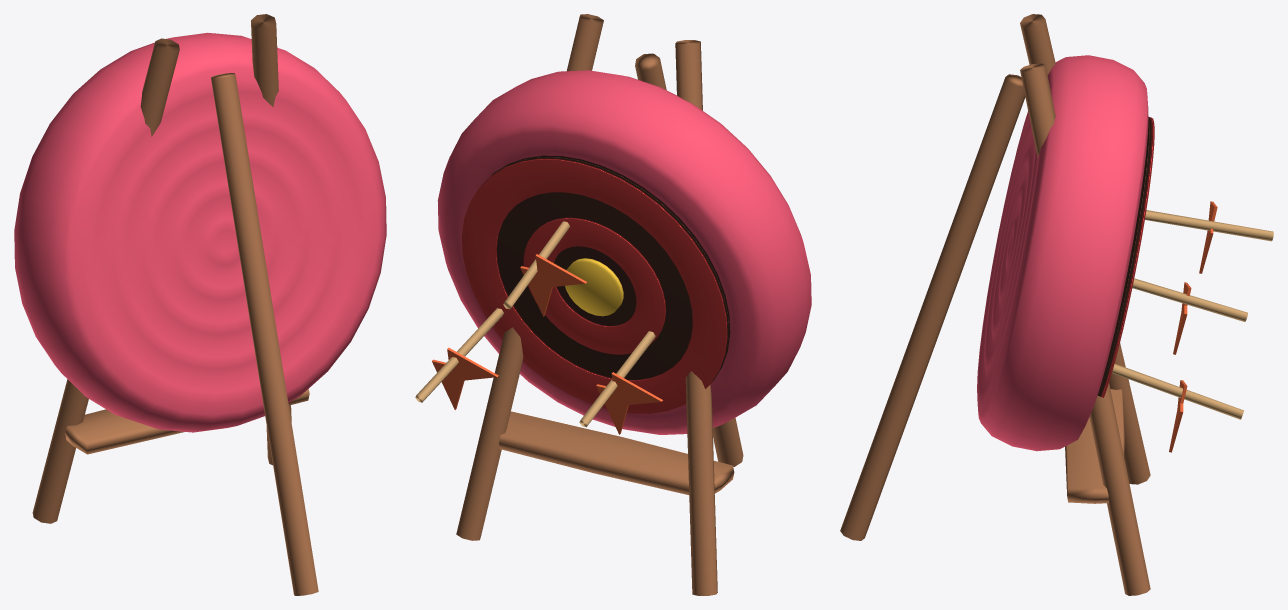
File: ArrowAmbushHayTarget.obj
3 renders of one model, left to right at view 1: azimuth 30°, elevation 25°; view 2: azimuth 150°, elevation 25°; view 3: azimuth 270°, elevation 25°, orthographic.
Visible parts, largest first — view 1: Straw, Wood; view 2: Straw, Rings, Wood, Face, Fletching, Shafts, Bull; view 3: Straw, Wood, Shafts, Face, Fletching, Rings.
Part boxes in pixels (<box>): Straw: <box>14,32,386,432</box>; Wood: <box>32,14,318,595</box>; Straw: <box>437,70,811,434</box>; Rings: <box>462,158,727,413</box>; Wood: <box>456,14,743,595</box>; Face: <box>481,155,730,381</box>; Fletching: <box>432,254,662,434</box>; Shafts: <box>415,221,655,427</box>; Bull: <box>565,258,623,316</box>; Straw: <box>977,55,1148,451</box>; Wood: <box>840,14,1150,595</box>; Shafts: <box>1112,210,1273,419</box>; Face: <box>1097,117,1151,396</box>; Fletching: <box>1169,201,1217,452</box>; Rings: <box>1101,117,1154,397</box>.
Size of the model in its own units: 3.98 by 5.47 by 4.33.
